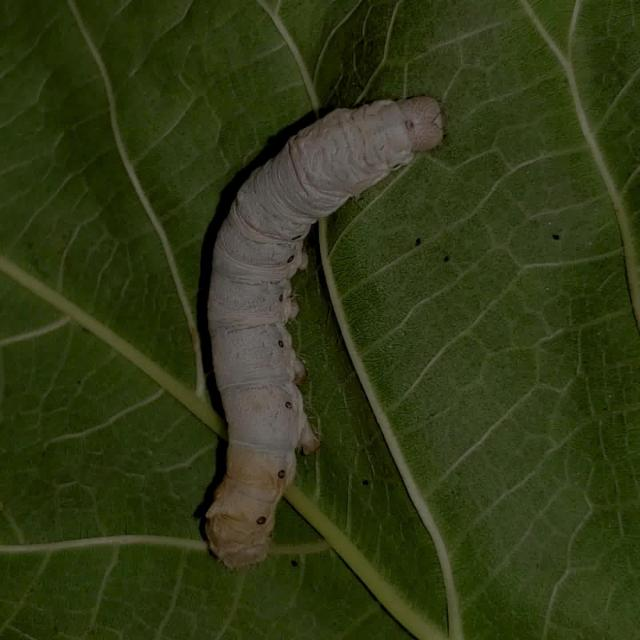Grasserie: (163, 64, 470, 580)
